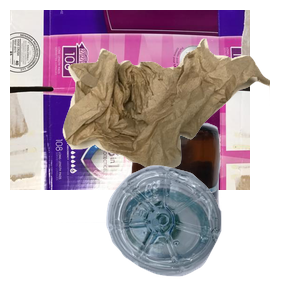cardboard: (10, 10, 250, 190)
glass: (29, 120, 242, 300)
plastic: (104, 163, 300, 300)
trash: (60, 36, 300, 198)
